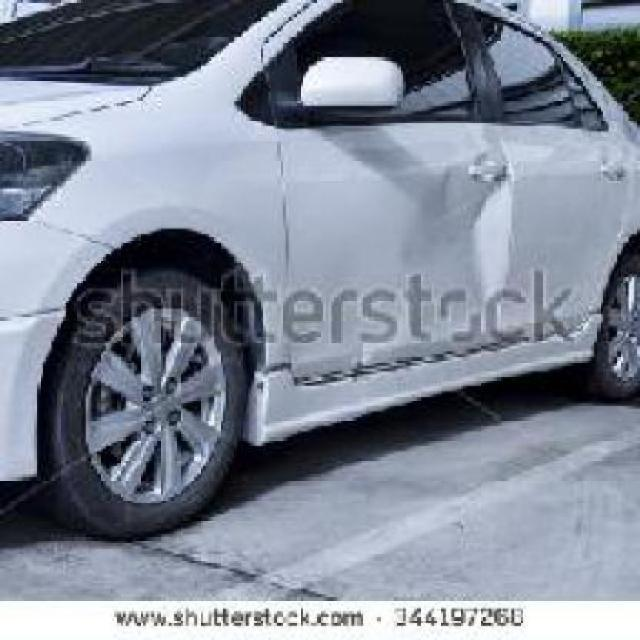dent-or-scratch: (409, 146, 538, 340)
